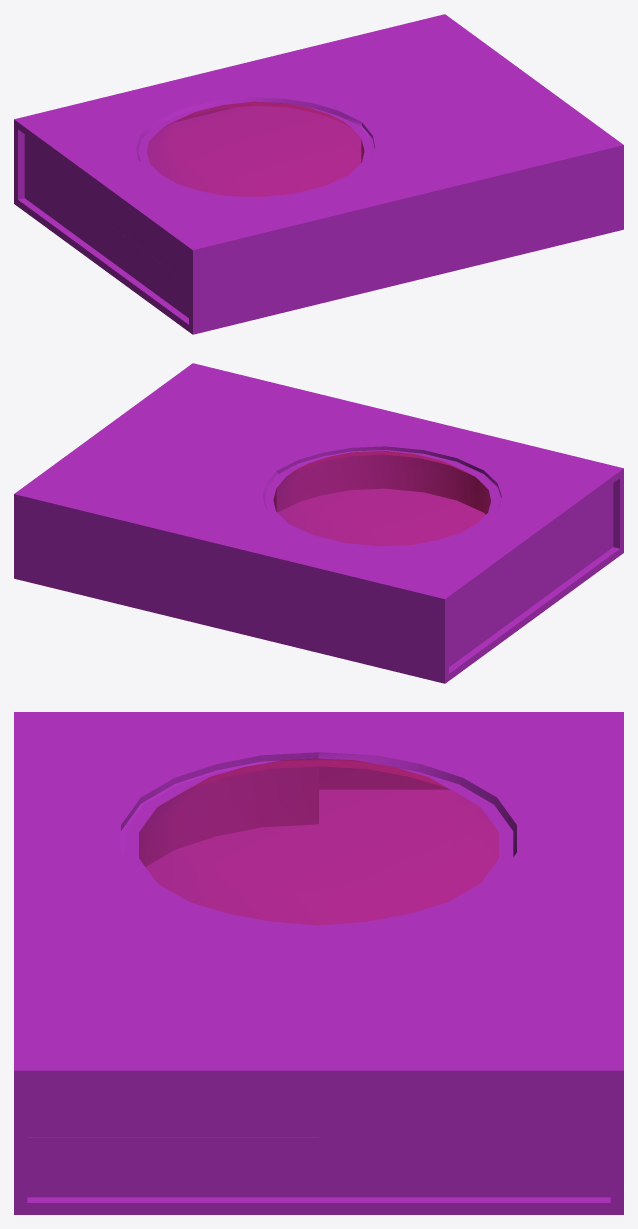
Rendered from grimoire.fbx.
3 views of the same model, one above another, from view 1: azimuth 30°, elevation 25°; view 2: azimuth 150°, elevation 25°; view 3: azimuth 270°, elevation 25° (orthographic). The views are drawn at different scales.
Visible parts, largest first — view 1: Object005, Object007, Box009; view 2: Object005, Object007, Box009; view 3: Object005, Object007, Box009.
Boxes of the visible parts, box(x1,y1,x2,y2) form: Object005: box(14, 14, 533, 224); Object007: box(103, 79, 623, 292); Box009: box(14, 126, 623, 334); Object005: box(14, 428, 534, 641); Object007: box(104, 363, 623, 573); Box009: box(14, 511, 623, 683); Object005: box(121, 712, 623, 1142); Object007: box(14, 712, 318, 1142); Box009: box(14, 1137, 623, 1214).
Bounding box in the file's own units: 32 × 6.64 × 23.
